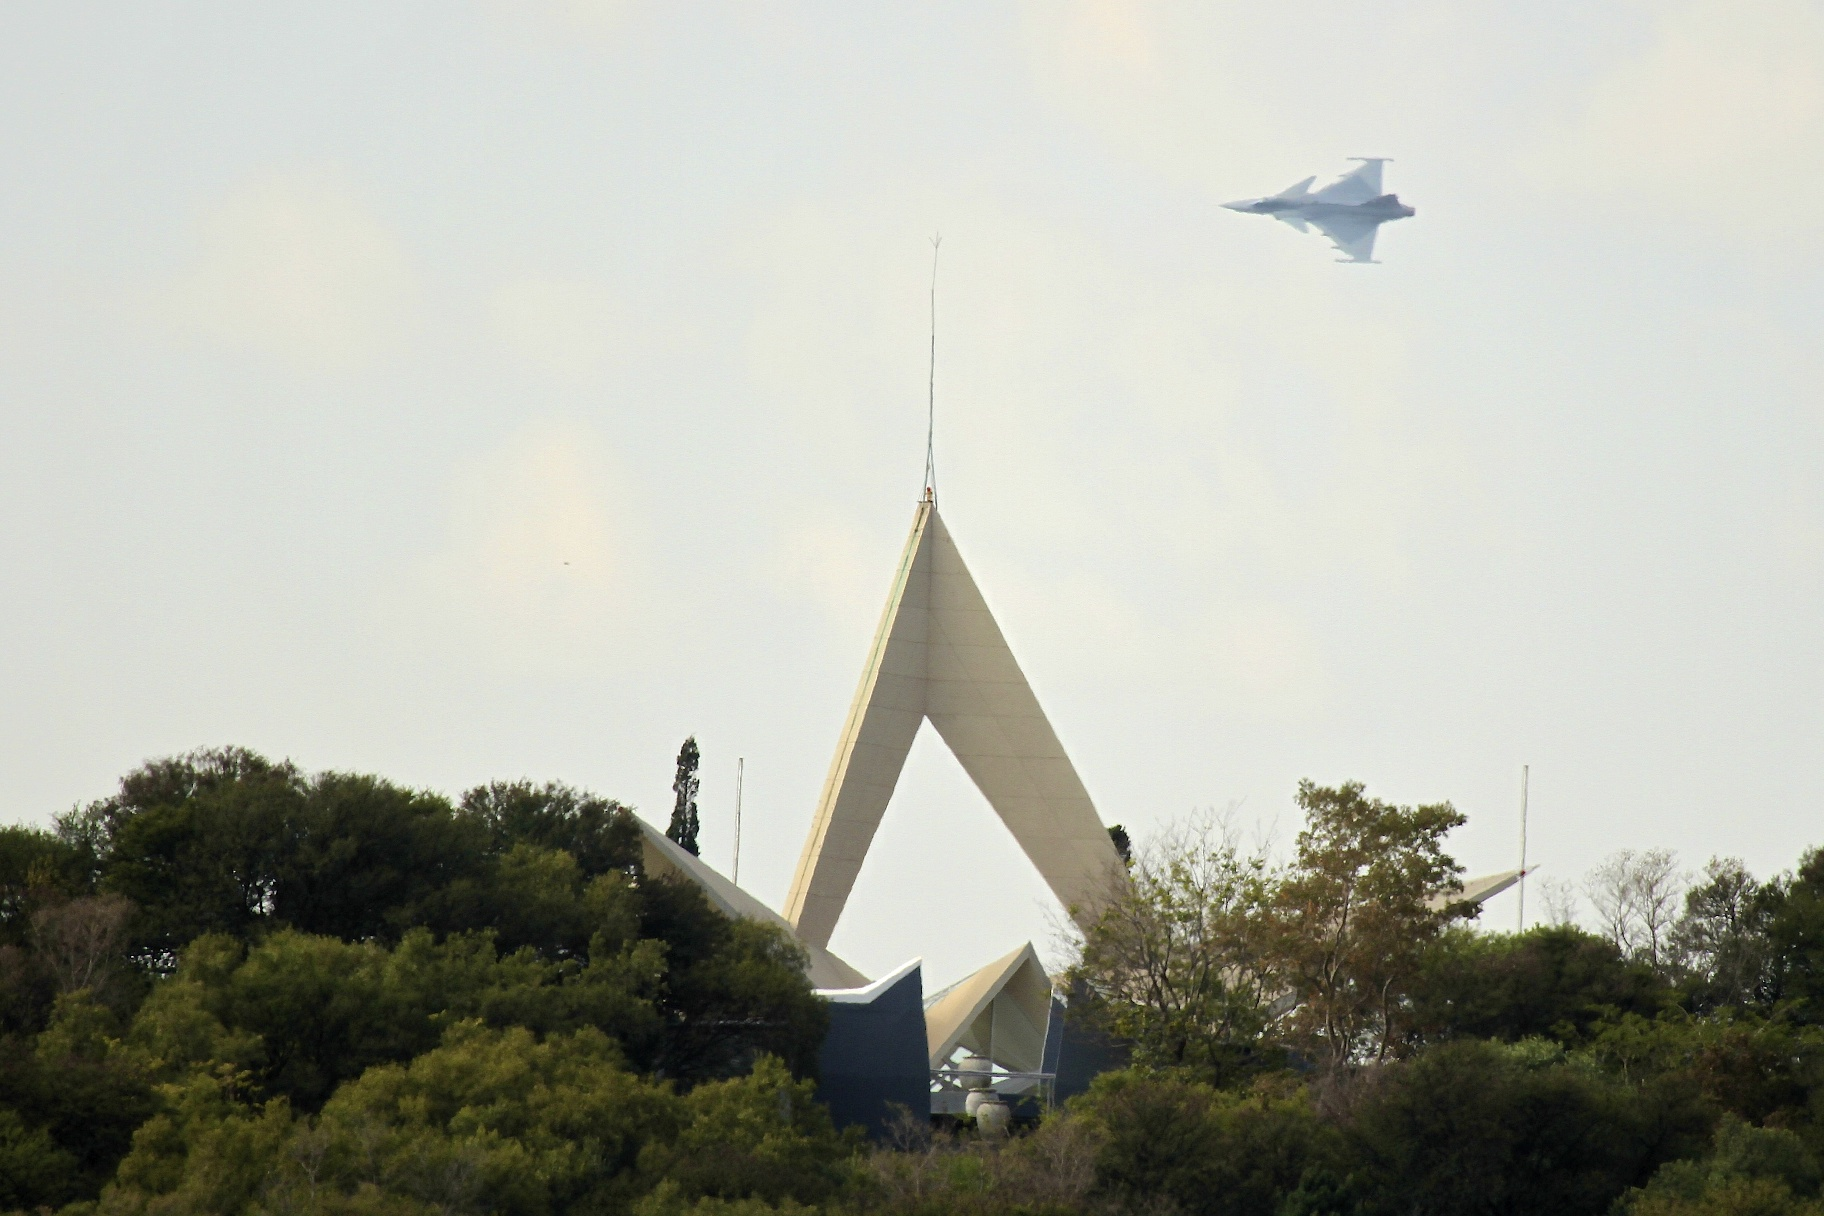JAS39: (1215, 157, 1415, 265)
